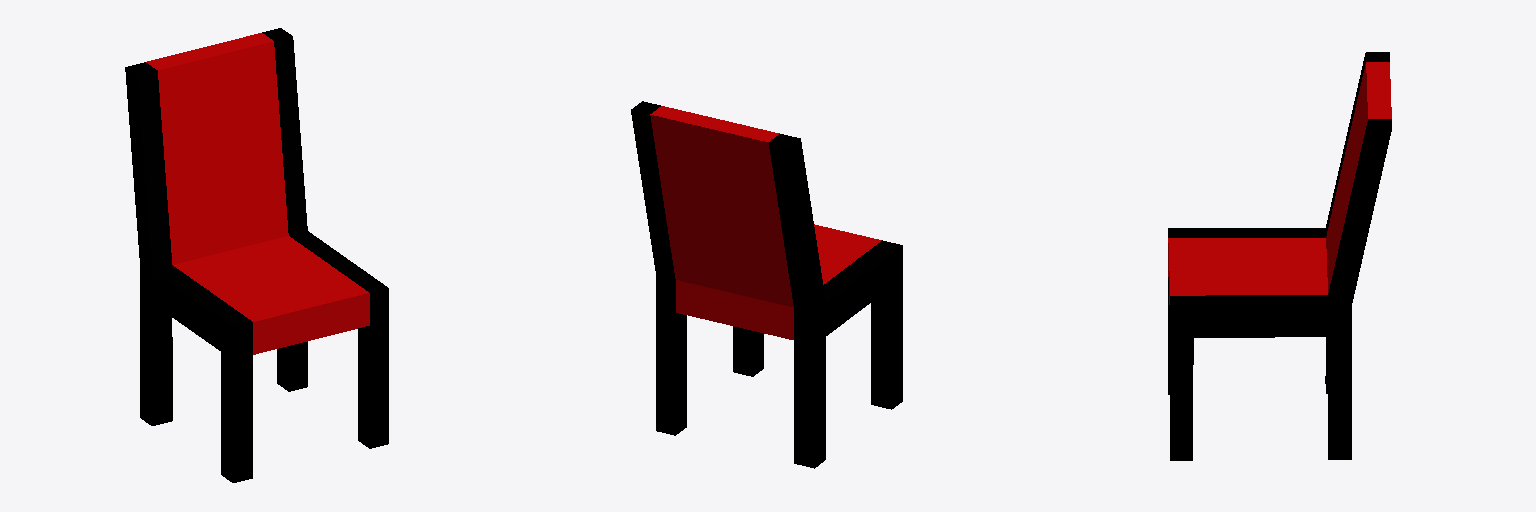
File: chair.obj
The picture shows the model from 3 angles: view 1: azimuth 30°, elevation 25°; view 2: azimuth 150°, elevation 25°; view 3: azimuth 270°, elevation 25°; orthographic projection.
Parts seen in each view (by area): view 1: Cube; view 2: Cube; view 3: Cube.
Boxes of the visible parts, box(x1,y1,x2,y2) form: Cube: box(125, 28, 388, 482); Cube: box(631, 101, 902, 468); Cube: box(1168, 52, 1391, 460).
Size of the model in its own units: 1.49 by 2.92 by 1.78.